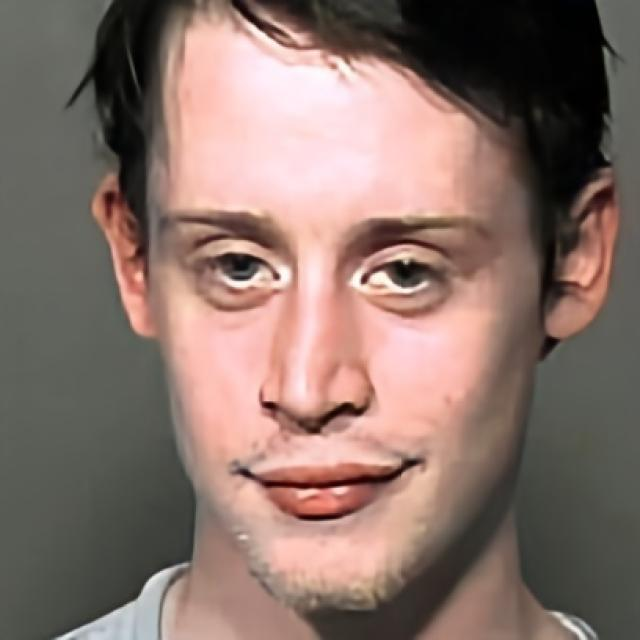content: (143, 0, 545, 616)
